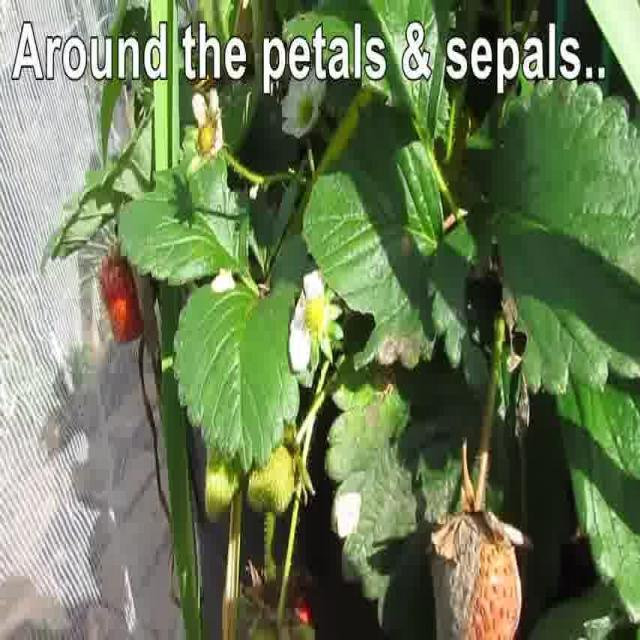Fruta sana: (100, 238, 144, 347)
Moho gris: (430, 510, 525, 640)
